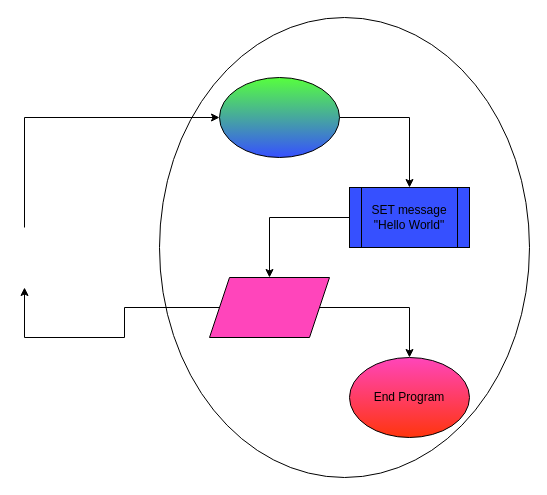
Image size: 547x495. Some labels were removed from this diagram. Each missing label, with the box of its shape:
ECHO message: (208, 276, 330, 338)
Start Program: (218, 76, 340, 158)
